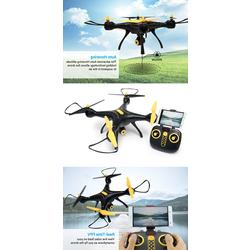drone: (65, 88, 160, 154), (64, 167, 150, 229), (84, 14, 188, 57)
